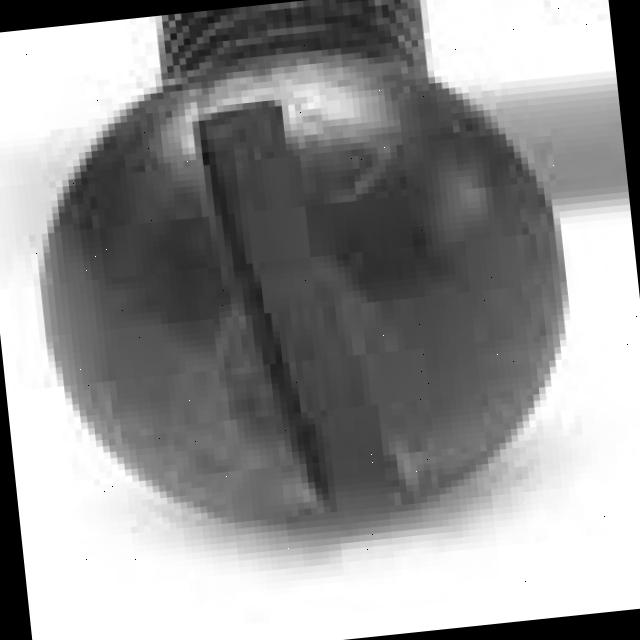Slotted: (19, 58, 599, 582)
